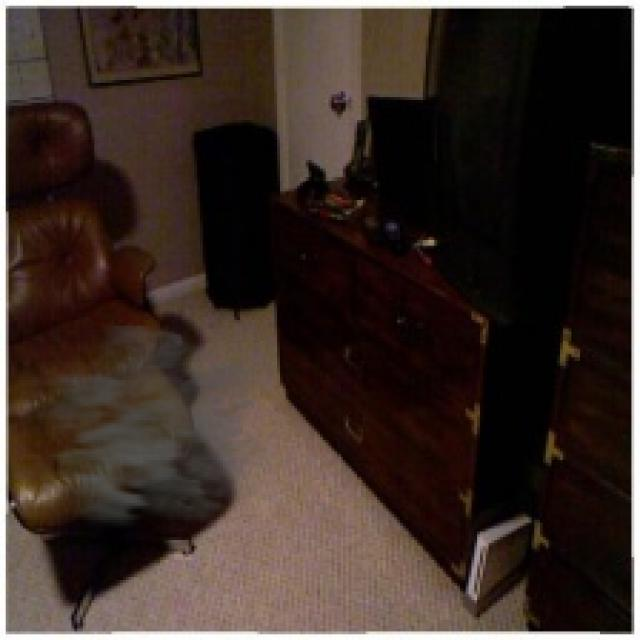smoke: (25, 326, 288, 543)
